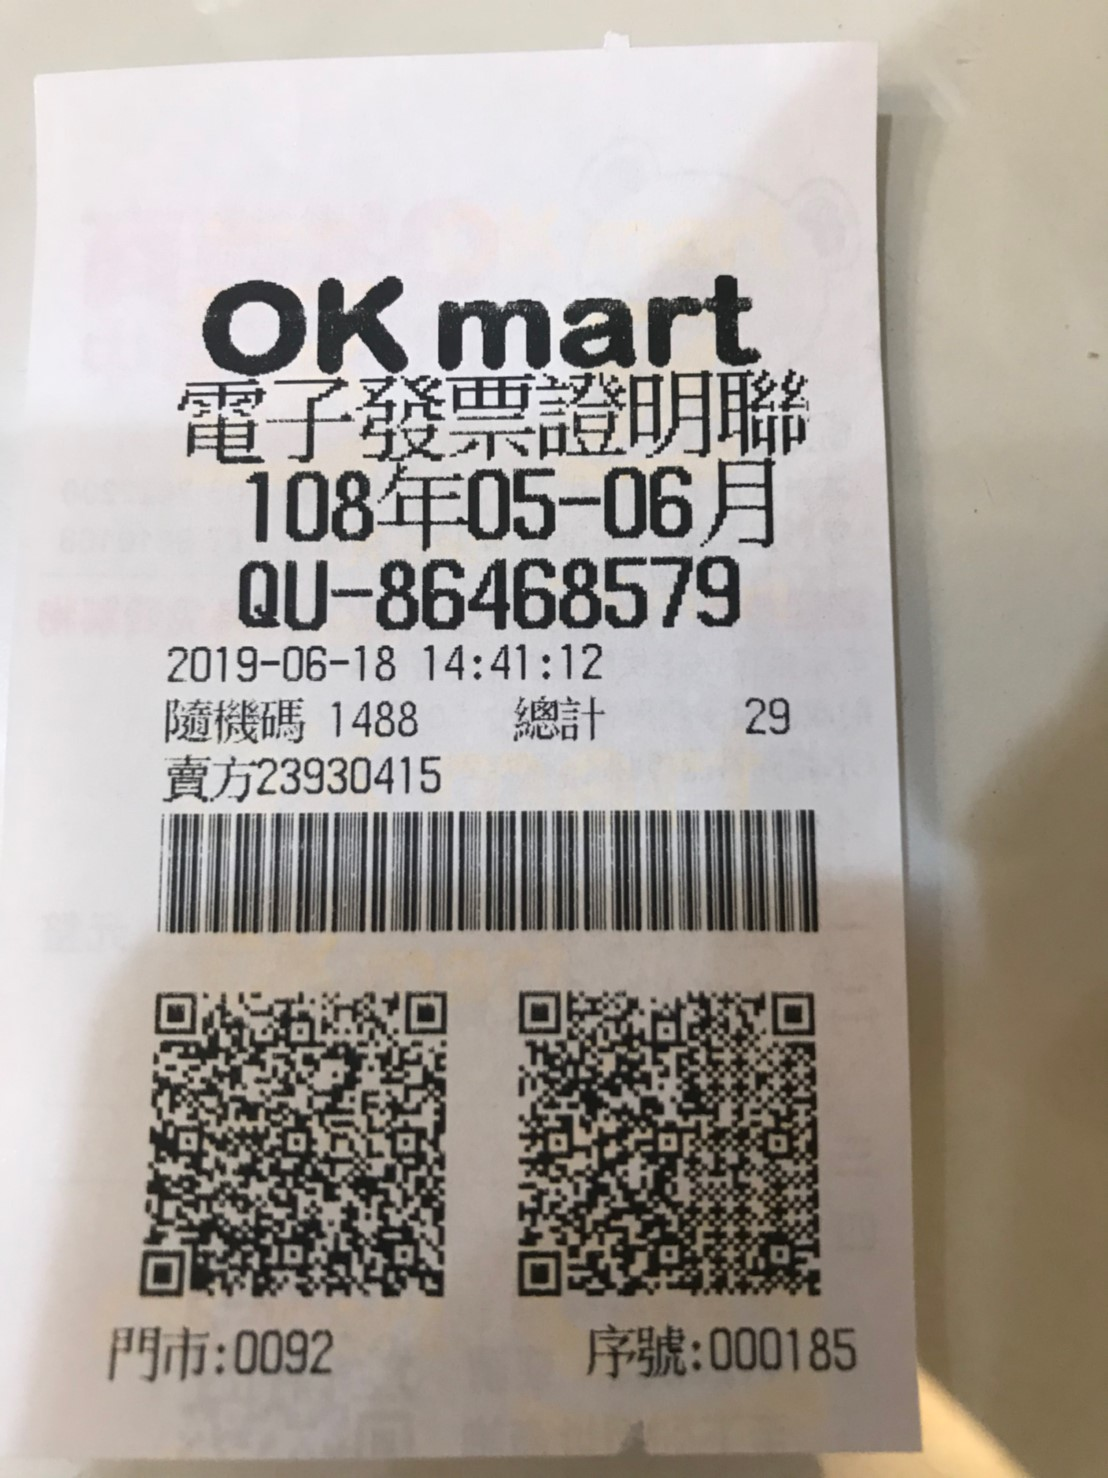Date_New: (243, 452, 777, 556)
Number_New: (370, 550, 750, 632)
